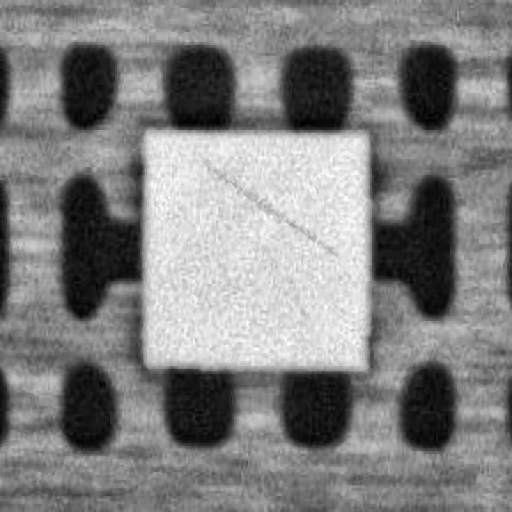DIE_CRACK: (305, 108, 501, 168)
